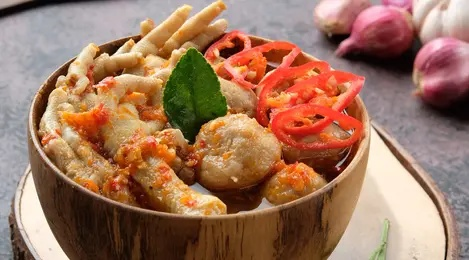seblak: (41, 2, 354, 215)
